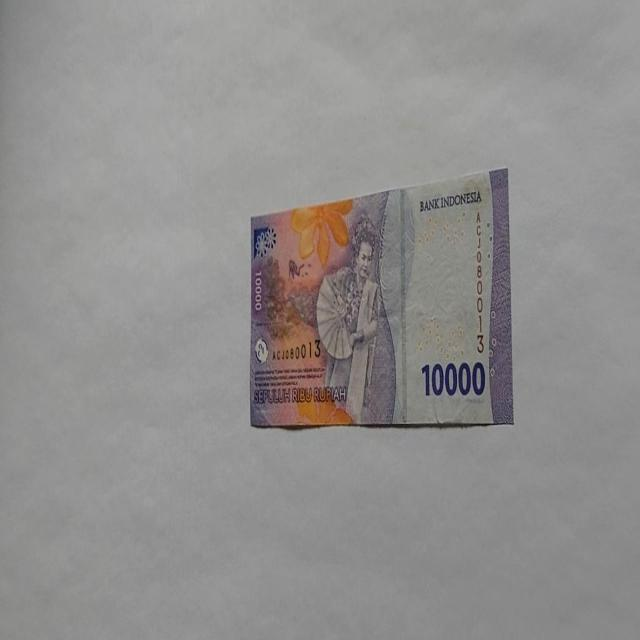Kertas: (248, 166, 514, 430), (420, 358, 486, 398)
